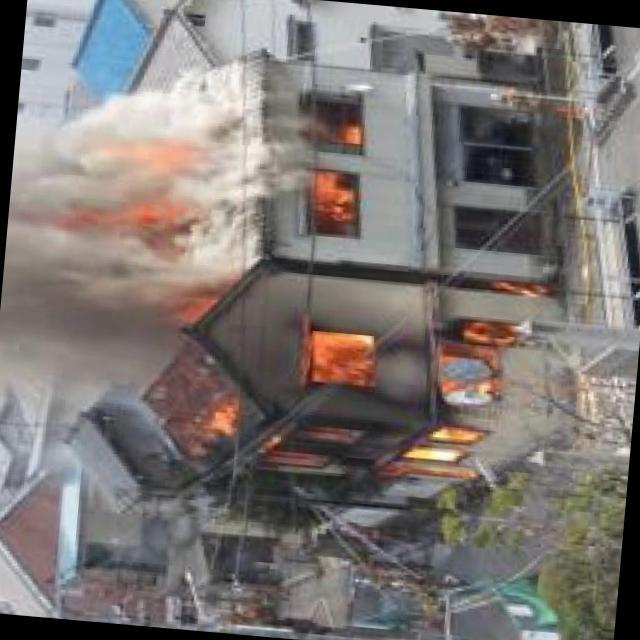Fire: (173, 289, 538, 503), (86, 132, 202, 262), (301, 95, 377, 231)
